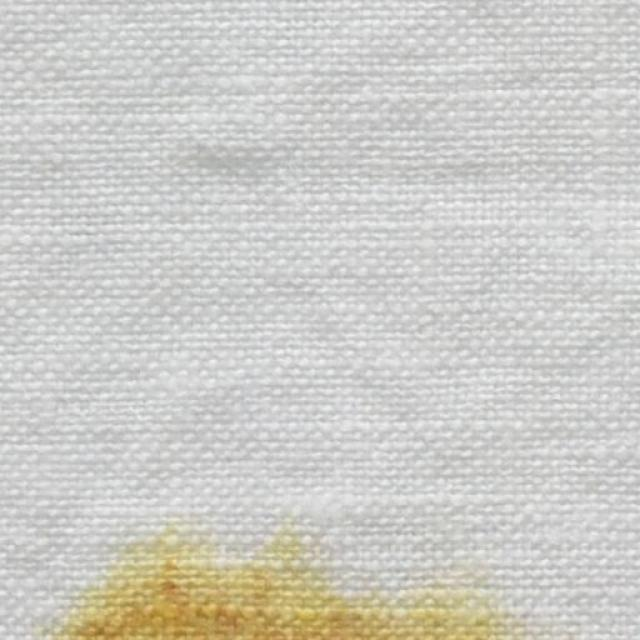Stain: (52, 534, 524, 639)
